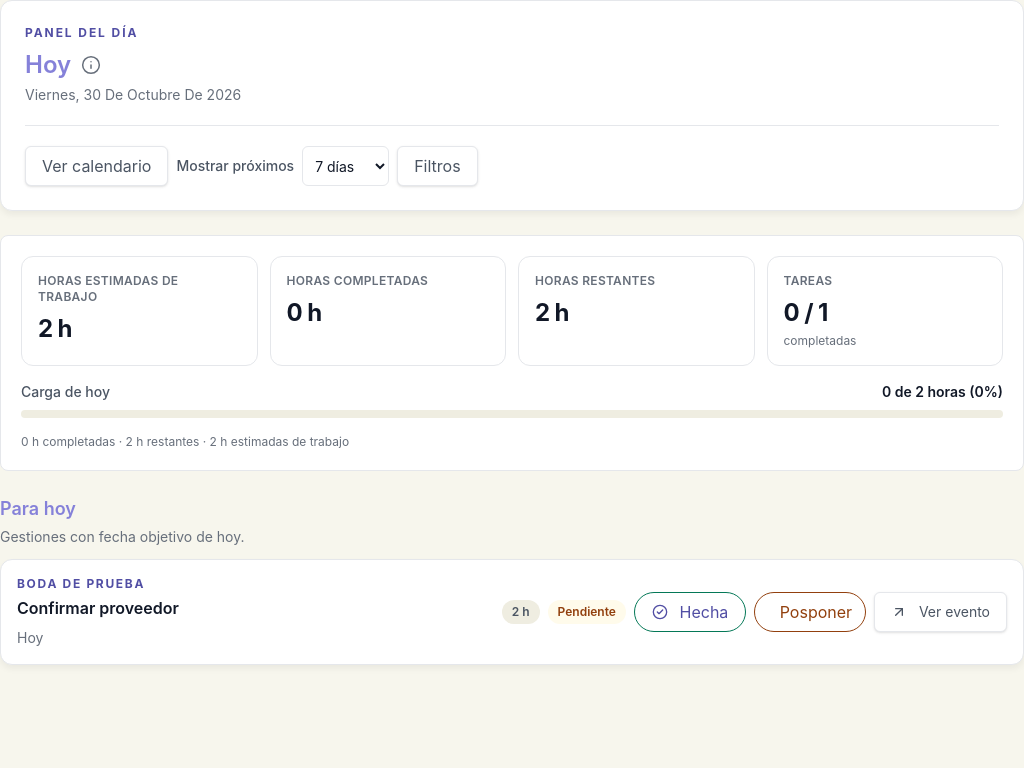
Test: panel de hoy: registrar una gestión › actualiza la lista sin recargar ni volver a pedir los datos
What coordinates should you click on to do the following:
click the button "Hecha"
I would click on:
 (690, 612)
Its box is [634,592,746,632].
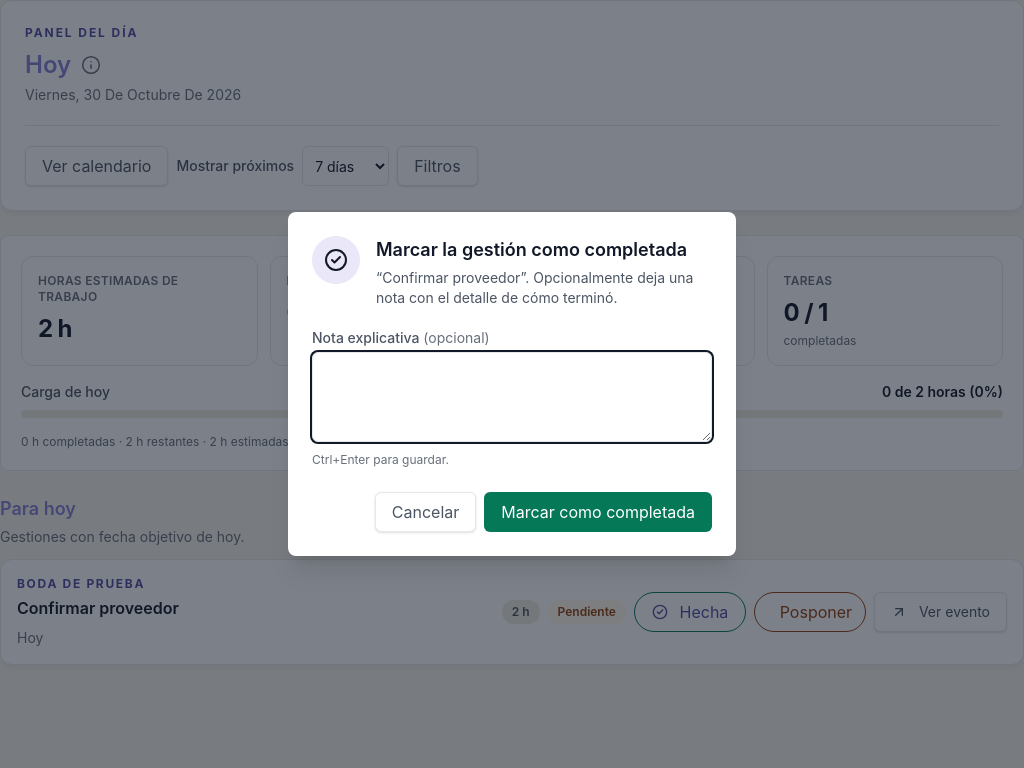
Now the button "Marcar como completada" is shown
What coordinates should you click on to do the following:
click the button "Marcar como completada"
I would click on:
 (598, 512)
Its box is [484,492,712,532].
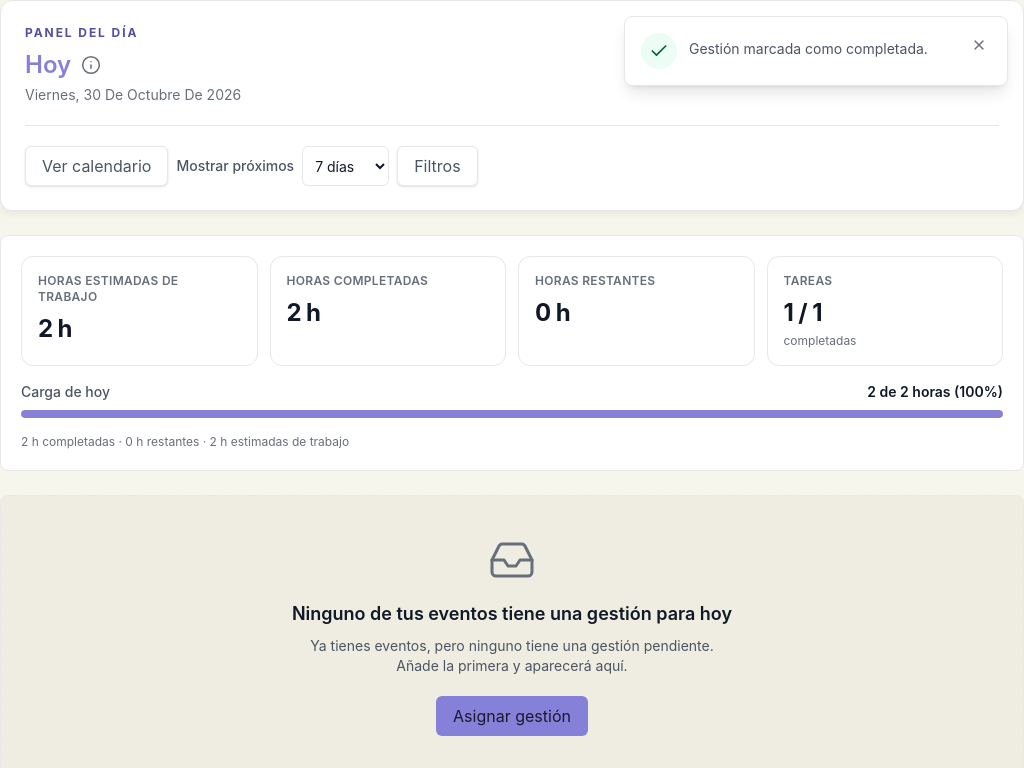
Now the text "Confirmar proveedor" is gone
